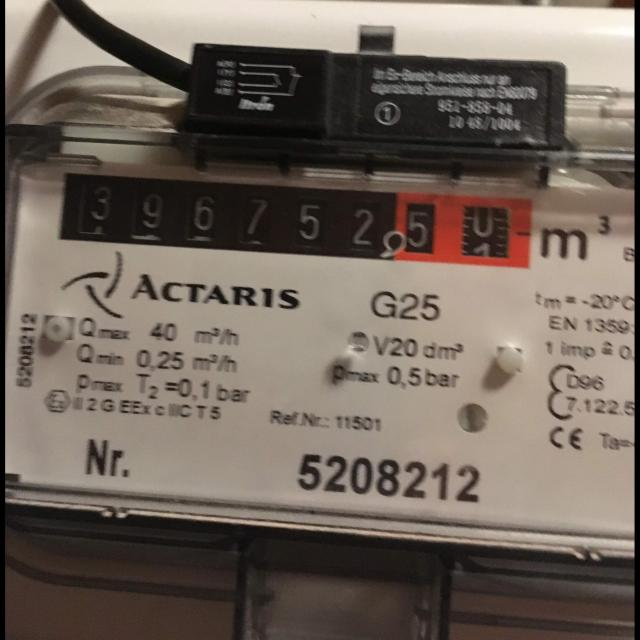gaz_meter: (8, 72, 633, 544)
indication: (59, 169, 534, 268)
